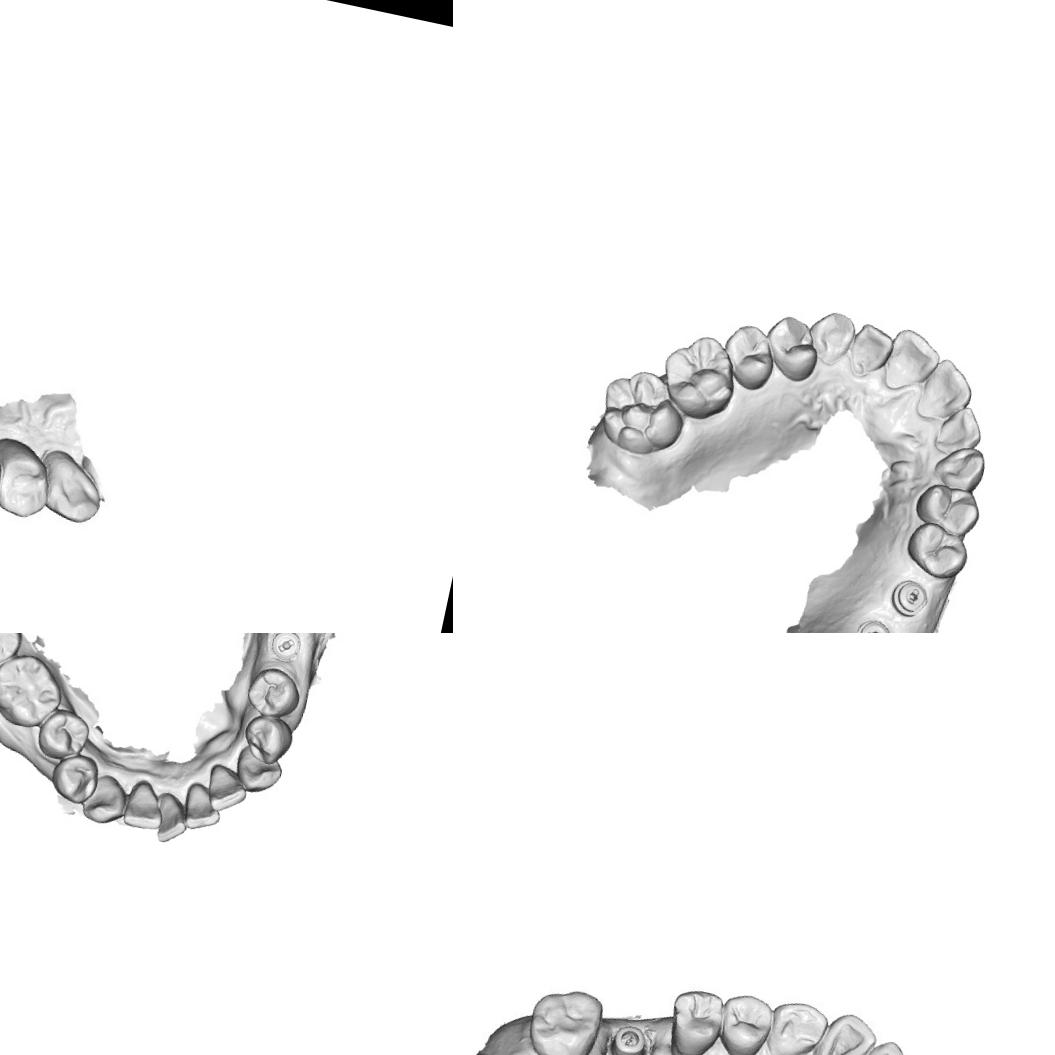abutment: (604, 1014, 656, 1055)
canine: (29, 443, 110, 527), (763, 994, 829, 1055), (802, 306, 859, 370), (929, 440, 992, 496), (230, 741, 288, 799), (79, 768, 129, 829)
implant_minus: (886, 574, 934, 621), (268, 633, 304, 664), (851, 615, 896, 633)
incisor: (878, 324, 946, 398), (914, 354, 980, 427), (807, 1003, 884, 1055), (842, 318, 898, 384), (932, 400, 988, 458), (200, 760, 253, 819), (120, 776, 170, 834), (178, 778, 227, 836), (148, 789, 193, 848), (831, 1031, 919, 1055)
molar: (592, 362, 694, 464), (652, 328, 745, 427), (518, 980, 609, 1055), (0, 646, 71, 735), (0, 633, 31, 675)
premolar: (659, 978, 731, 1055), (758, 311, 826, 386), (715, 320, 781, 394), (900, 517, 973, 583), (0, 436, 56, 522), (911, 480, 985, 538), (712, 987, 775, 1055), (240, 662, 306, 724), (32, 704, 94, 767), (236, 710, 296, 770), (47, 747, 104, 809)
